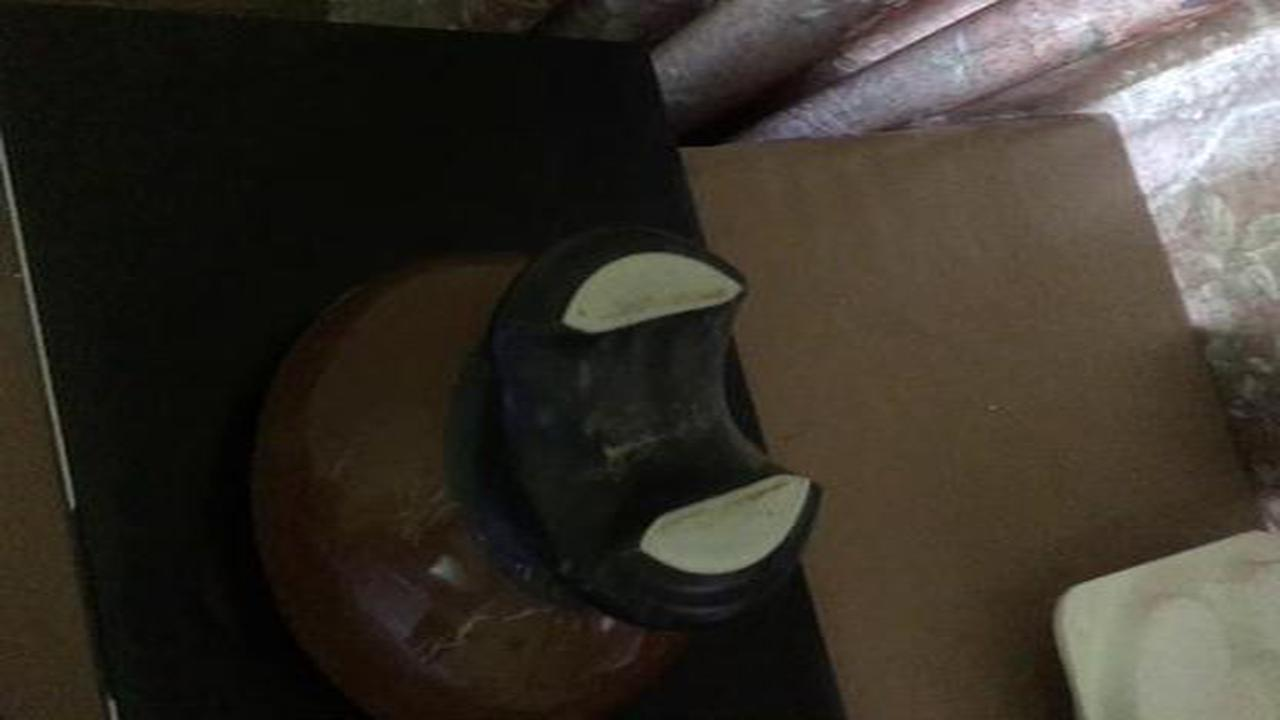insulator_pin: (231, 215, 841, 715)
